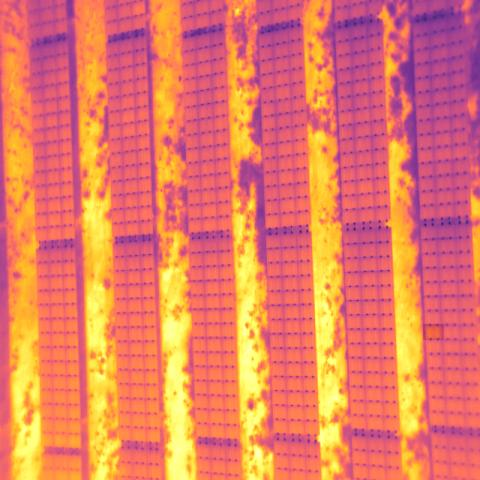fault: (423, 324, 444, 340)
